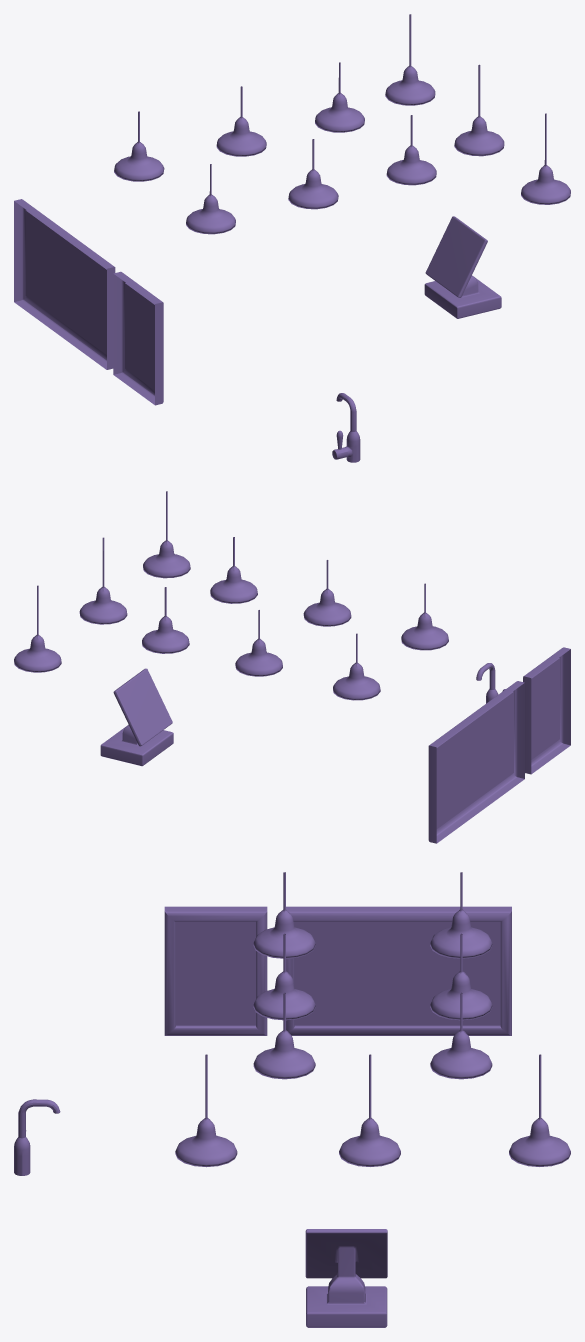
The picture shows the model from 3 angles, top to bottom: view 1: azimuth 30°, elevation 25°; view 2: azimuth 150°, elevation 25°; view 3: azimuth 270°, elevation 25°; orthographic projection. The views are drawn at different scales.
Visible parts, largest first — view 1: S01_group01; view 2: S01_group01; view 3: S01_group01.
Part boxes in pixels (x1=…): S01_group01: x1=14, y1=14, x2=570, y2=462; S01_group01: x1=14, y1=491, x2=570, y2=843; S01_group01: x1=14, y1=872, x2=570, y2=1327.
Bounding box in the file's own units: 20784 × 10458 × 18964.
